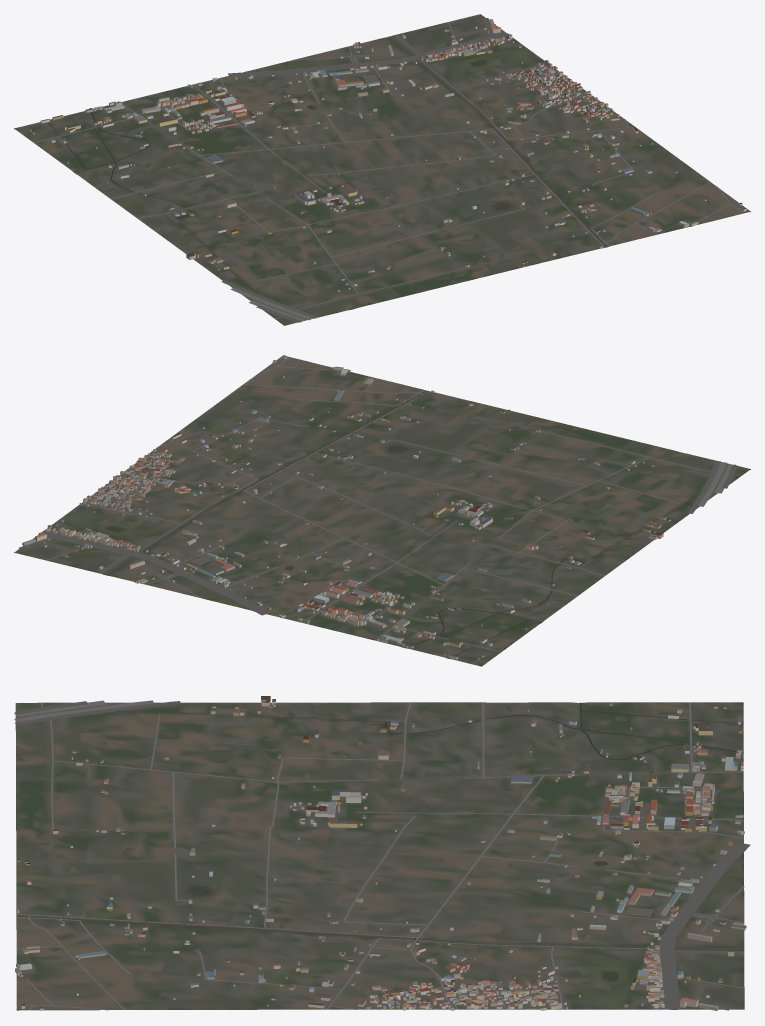
The picture shows the model from 3 angles, top to bottom: view 1: azimuth 30°, elevation 25°; view 2: azimuth 150°, elevation 25°; view 3: azimuth 270°, elevation 25°; orthographic projection. The views are drawn at different scales.
Visible parts, largest first — view 1: ground, buildings, roads, water; view 2: ground, buildings, roads, water; view 3: ground, buildings, roads, water.
Part boxes in pixels (<box>): ground: <box>14,14,750,325</box>; buildings: <box>29,19,746,291</box>; roads: <box>34,18,746,322</box>; water: <box>48,36,607,309</box>; ground: <box>14,356,750,666</box>; buildings: <box>22,355,670,659</box>; roads: <box>18,357,741,652</box>; water: <box>105,390,700,658</box>; ground: <box>15,702,744,1010</box>; buildings: <box>15,696,746,1010</box>; roads: <box>14,700,750,1010</box>; water: <box>16,702,744,1009</box>.
Bounding box in the file's own units: 1416 × 19.11 × 1420.
